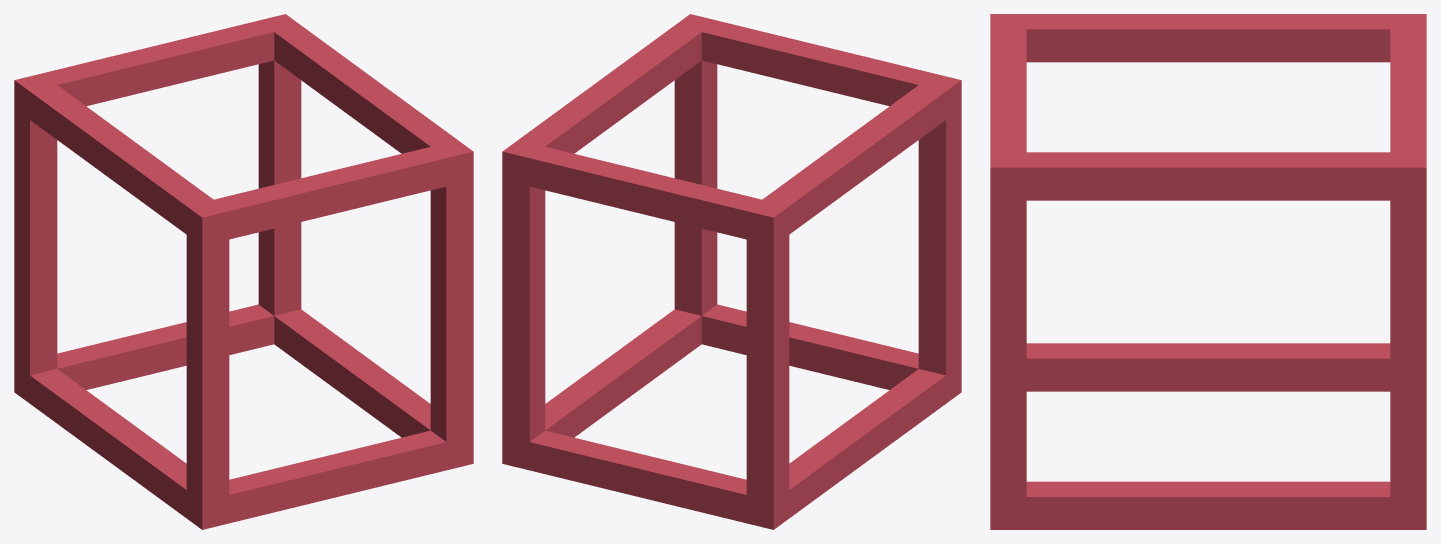
Rendered from poliedro.glb.
3 views of the same model, side by side, from view 1: azimuth 30°, elevation 25°; view 2: azimuth 150°, elevation 25°; view 3: azimuth 270°, elevation 25° (orthographic). The views are drawn at different scales.
Parts seen in each view (by area): view 1: Mesh_Mesh_head_geo.001_lambert2SG.001; view 2: Mesh_Mesh_head_geo.001_lambert2SG.001; view 3: Mesh_Mesh_head_geo.001_lambert2SG.001.
Part boxes in pixels (bbox=[...]): Mesh_Mesh_head_geo.001_lambert2SG.001: bbox=[14, 14, 473, 529]; Mesh_Mesh_head_geo.001_lambert2SG.001: bbox=[502, 14, 961, 529]; Mesh_Mesh_head_geo.001_lambert2SG.001: bbox=[990, 14, 1426, 529].
Size of the model in its own units: 10 by 11 by 12.
